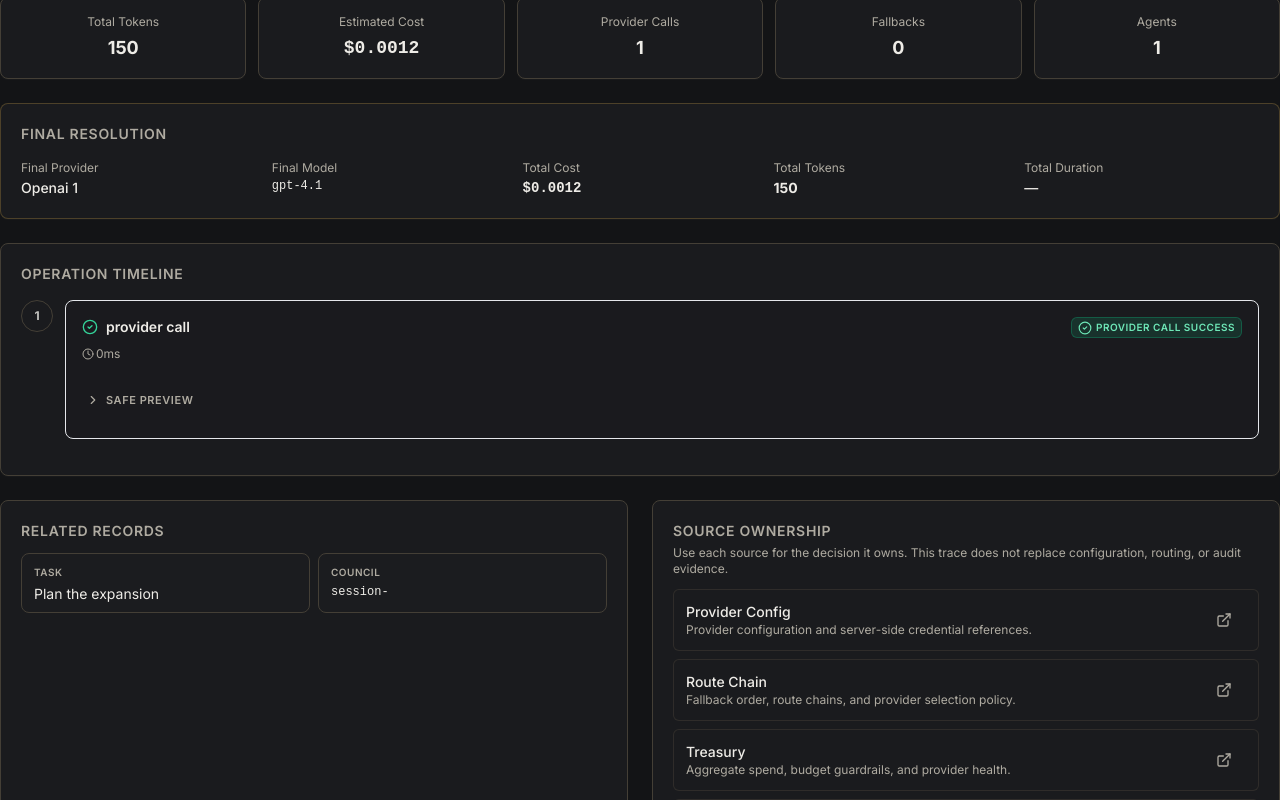
UsageTracePage › sanitized preview boundary › expands step-level preview on toggle
This screenshot has width=1280, height=800.
(page scrolled)
Expected: the text "Step prompt text" is not shown
Click safe preview toggle
Click the button "Safe Preview". click: (140, 400)
box: [82,378,197,422]
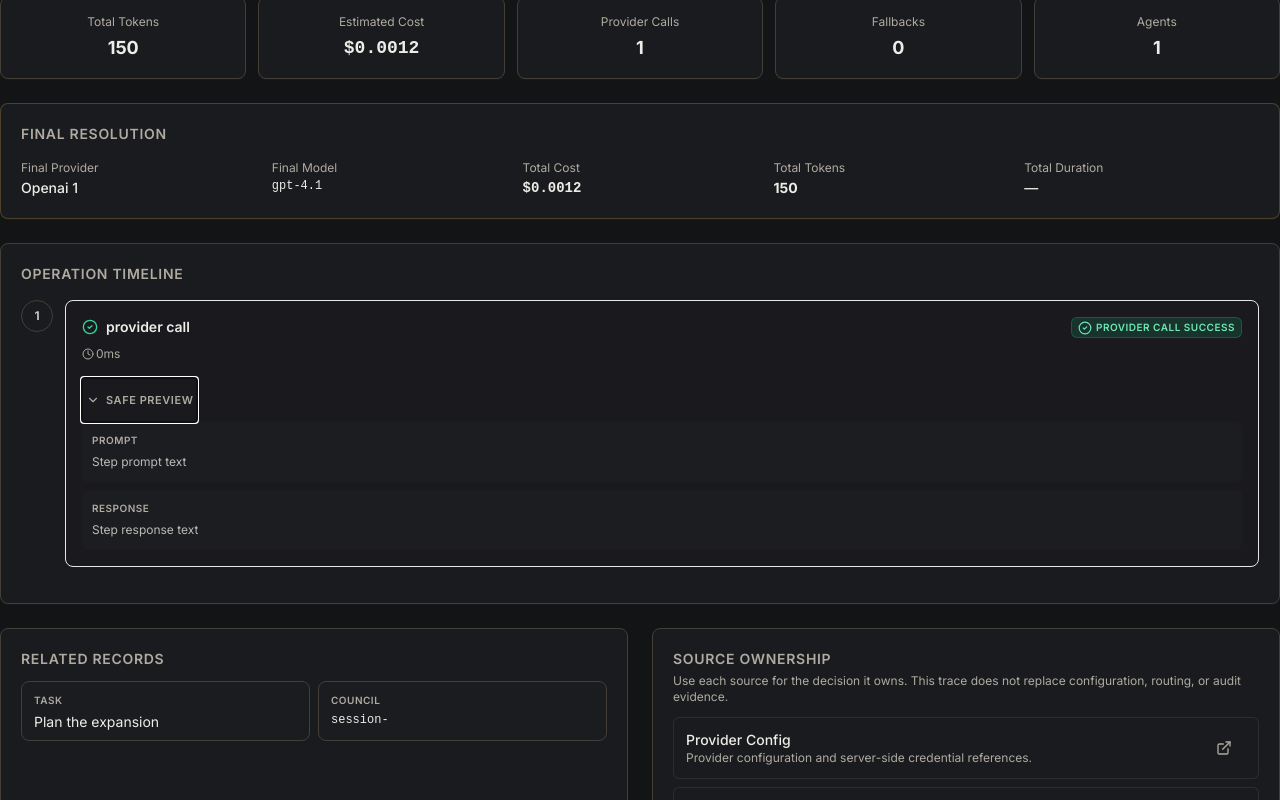
Expected: the text "Step prompt text" is shown, [92,454,186,469]
Expected: the text "Step response text" is shown, [92,522,198,537]
